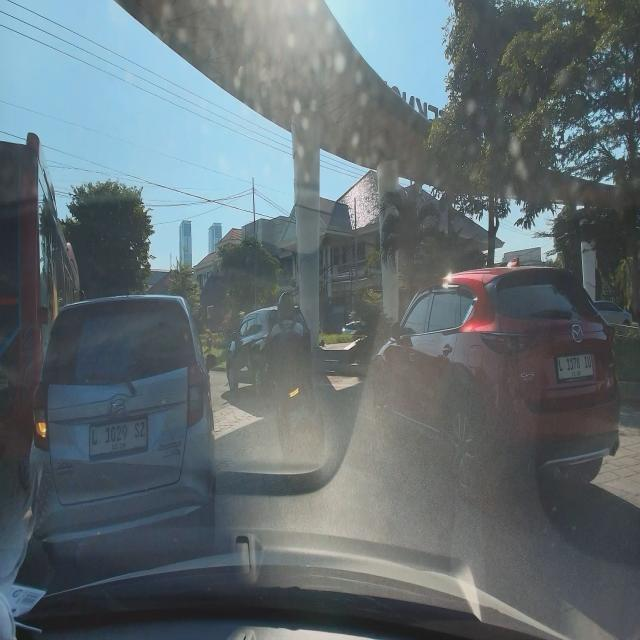bus: (0, 126, 82, 494)
car: (369, 258, 623, 516), (30, 290, 218, 540), (225, 302, 315, 401)
license-plate: (89, 418, 148, 456), (557, 355, 593, 378)
